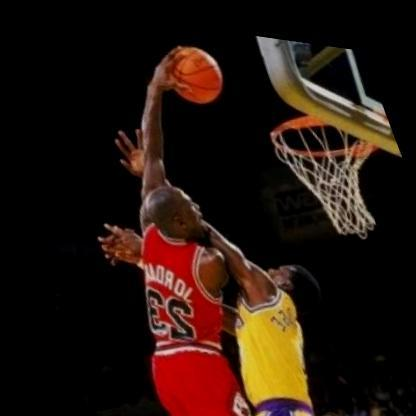basketball: (152, 25, 234, 112)
rim: (256, 81, 400, 242)
